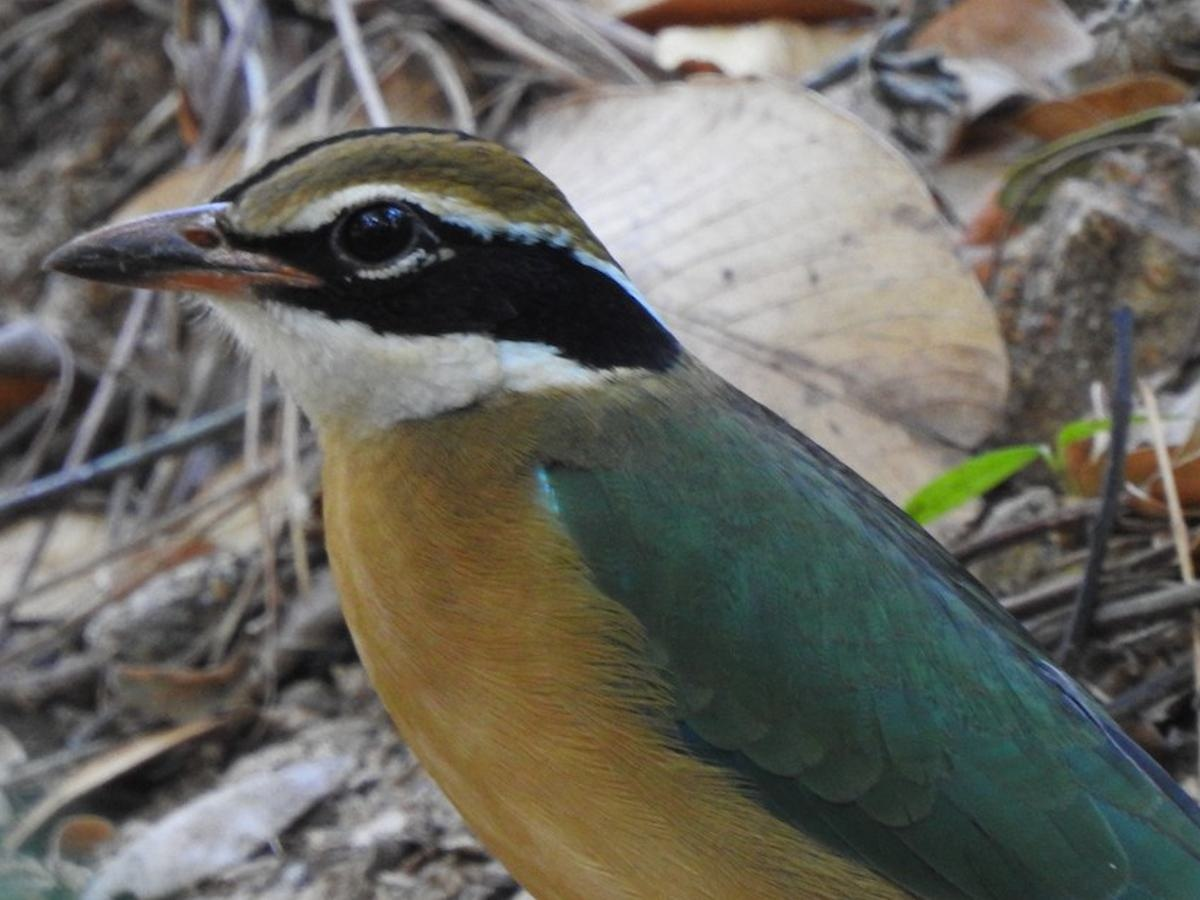pitta: (84, 108, 967, 872)
